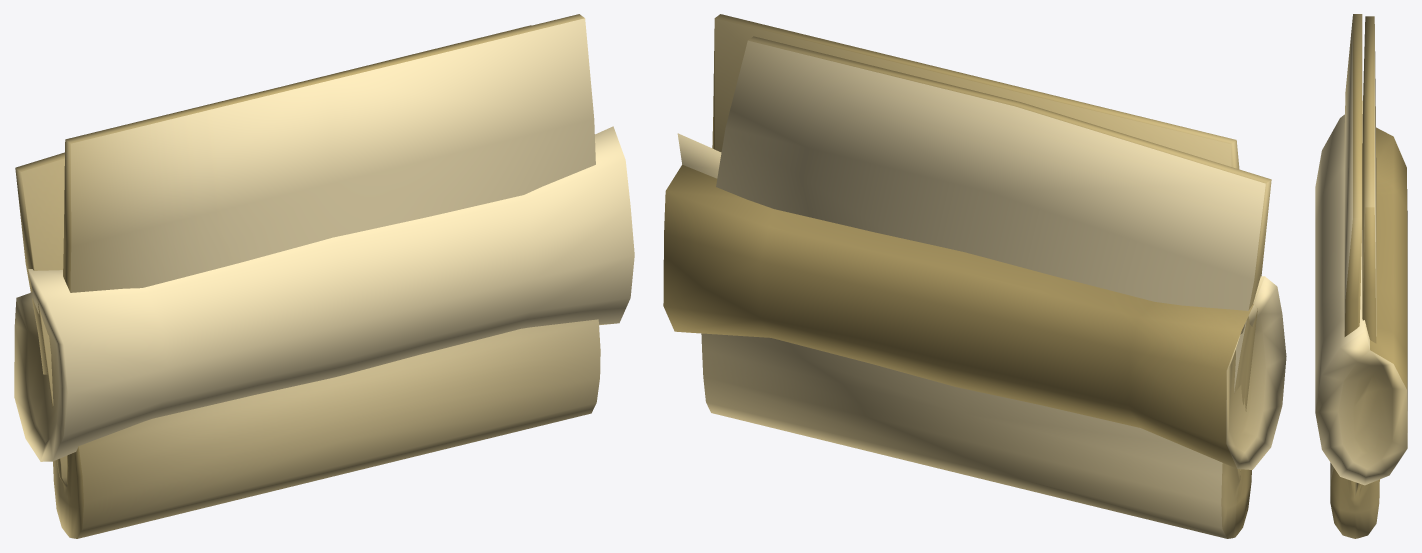
Rendered from Newspaper.fbx.
3 views of the same model, side by side, from view 1: azimuth 30°, elevation 25°; view 2: azimuth 150°, elevation 25°; view 3: azimuth 270°, elevation 25° (orthographic). The views are drawn at different scales.
Parts seen in each view (by area): view 1: HalfFoldedNewspaper, RolledNewspaper; view 2: HalfFoldedNewspaper, RolledNewspaper; view 3: RolledNewspaper, HalfFoldedNewspaper.
Boxes of the visible parts, x1,y1,x2,y2 form: HalfFoldedNewspaper: (15,14,600,538); RolledNewspaper: (14,126,634,461); HalfFoldedNewspaper: (701,14,1271,538); RolledNewspaper: (663,133,1286,469); RolledNewspaper: (1315,100,1407,485); HalfFoldedNewspaper: (1330,14,1379,538).
Bounding box in the file's own units: 184 × 117 × 30.61.
2 materials, 2 textured.
